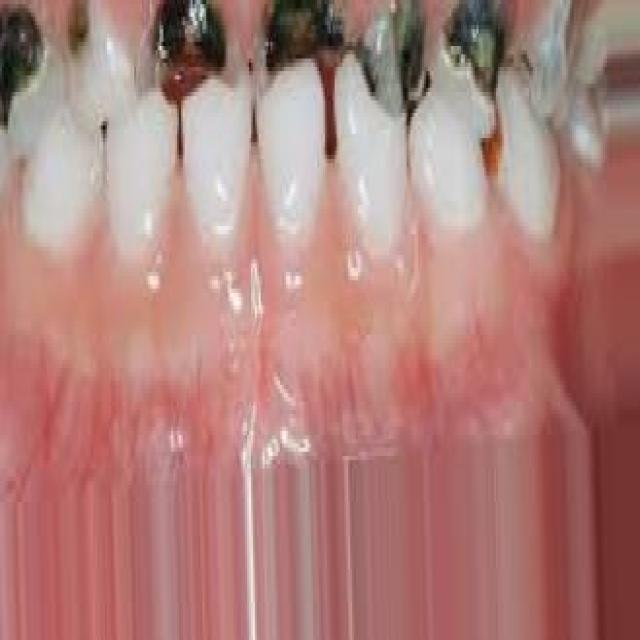caries: (135, 0, 246, 117), (430, 0, 511, 144), (249, 0, 347, 104), (348, 0, 428, 123), (0, 0, 60, 163), (516, 0, 584, 130), (63, 0, 130, 117)
